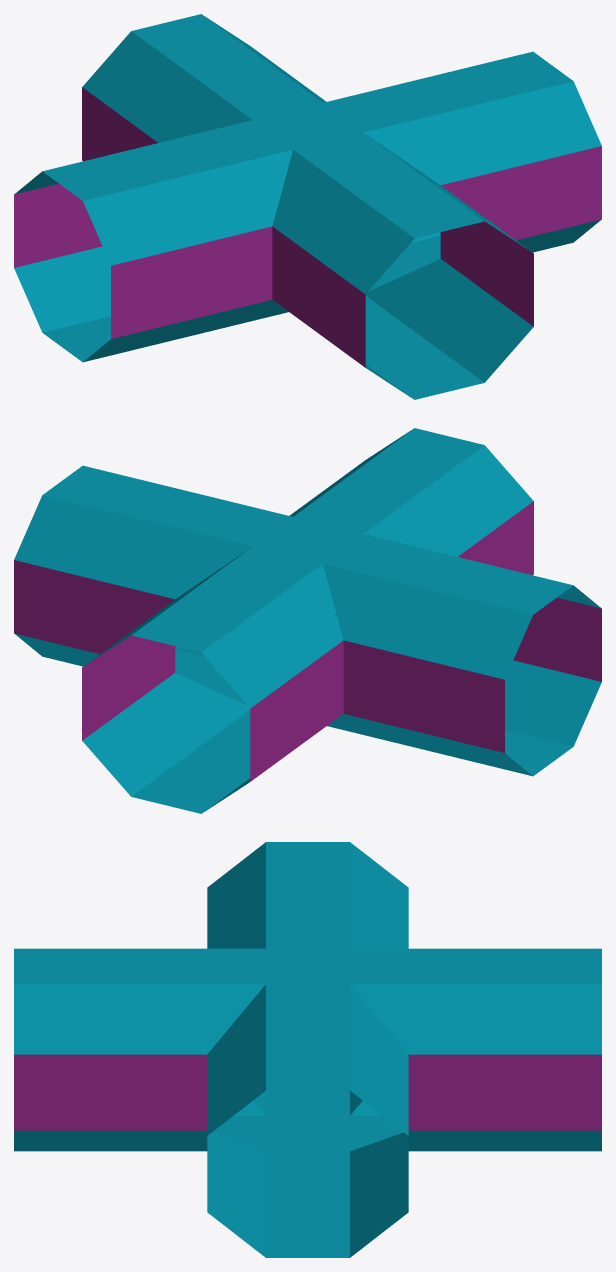
Rendered from Cross Corridor.fbx.
3 views of the same model, one above another, from view 1: azimuth 30°, elevation 25°; view 2: azimuth 150°, elevation 25°; view 3: azimuth 270°, elevation 25° (orthographic). The views are drawn at different scales.
Parts seen in each view (by area): view 1: Cross_Corridor; view 2: Cross_Corridor; view 3: Cross_Corridor.
Part boxes in pixels (x1,y1,x2,y2): Cross_Corridor: (14,14,601,399); Cross_Corridor: (14,428,601,813); Cross_Corridor: (14,842,601,1257).
Size of the model in its own units: 70 by 22 by 70.
